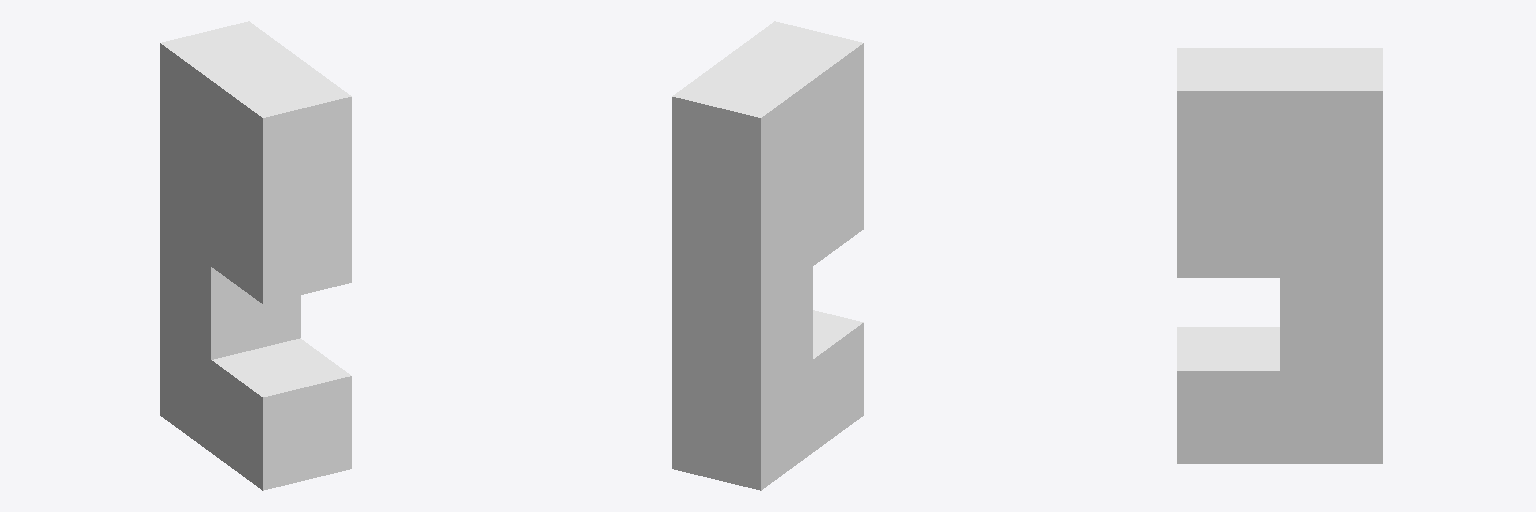
Rendered from hamster-0.obj.
3 renders of one model, left to right at view 1: azimuth 30°, elevation 25°; view 2: azimuth 150°, elevation 25°; view 3: azimuth 270°, elevation 25°, orthographic.
Visible parts, largest first — view 1: object 1; view 2: object 1; view 3: object 1.
Part boxes in pixels (x1,y1,x2,y2): object 1: (160,21,351,490); object 1: (672,21,863,490); object 1: (1177,48,1382,463).
Bounding box in the file's own units: 0.1 × 0.4 × 0.2.